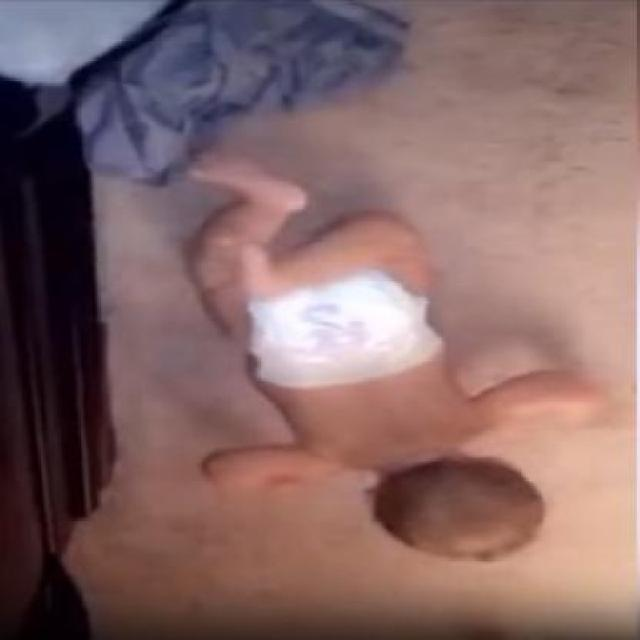baby: (186, 153, 605, 564)
